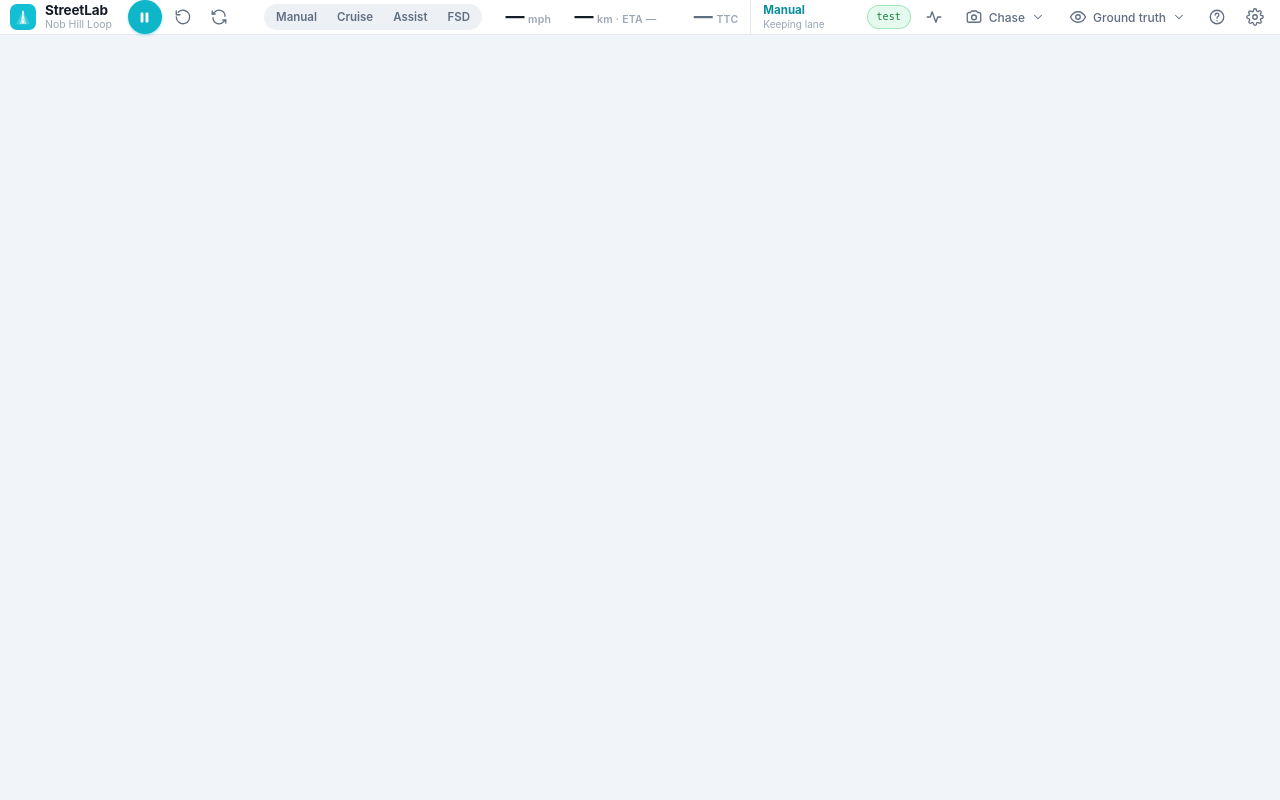
Test: keyboard shortcuts and help › the toolbar help button opens the dialog
Click the button named "Help and shortcuts".
click(1217, 17)  # box top-left (1202, 2), bottom-right (1232, 32)
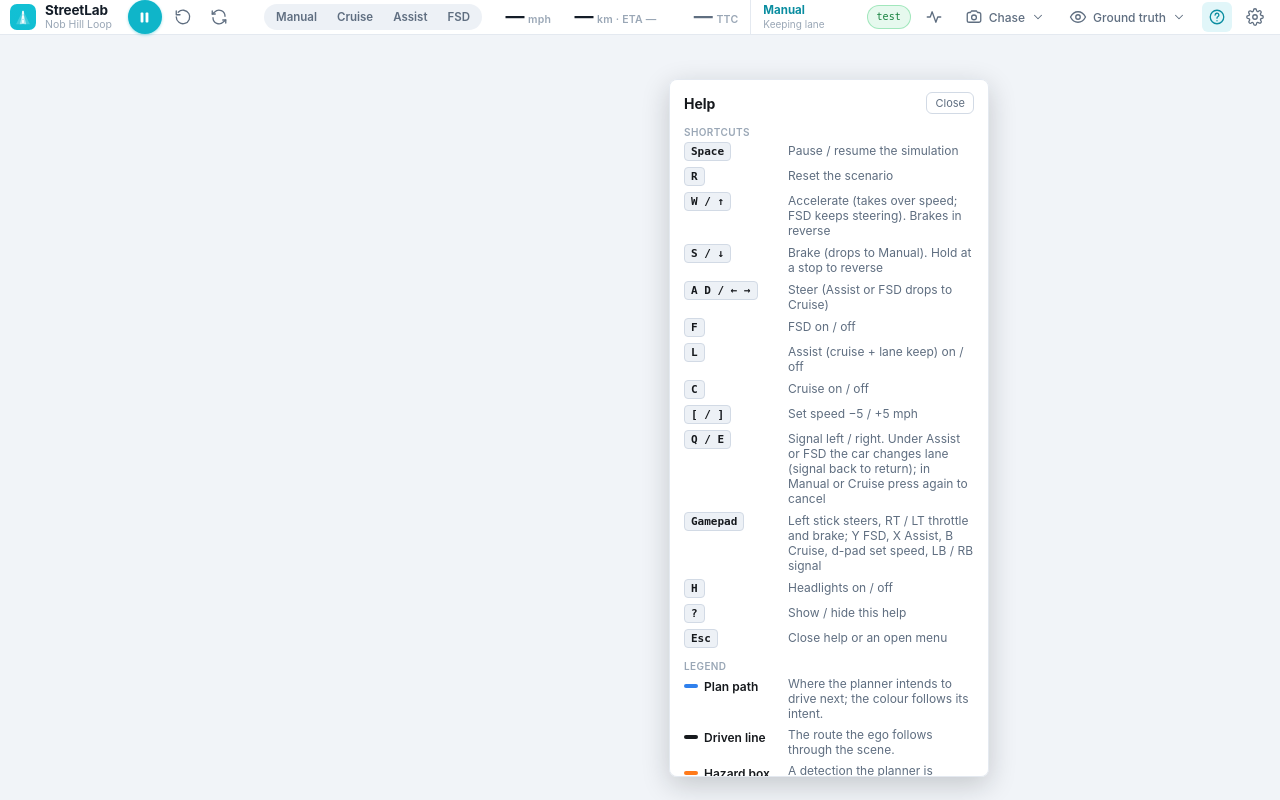
Now the dialog is shown, box top-left (669, 79), bottom-right (989, 777)
